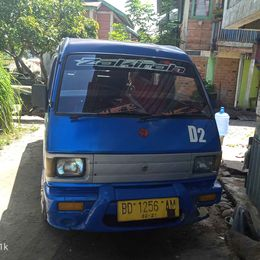plate: (116, 197, 181, 222)
